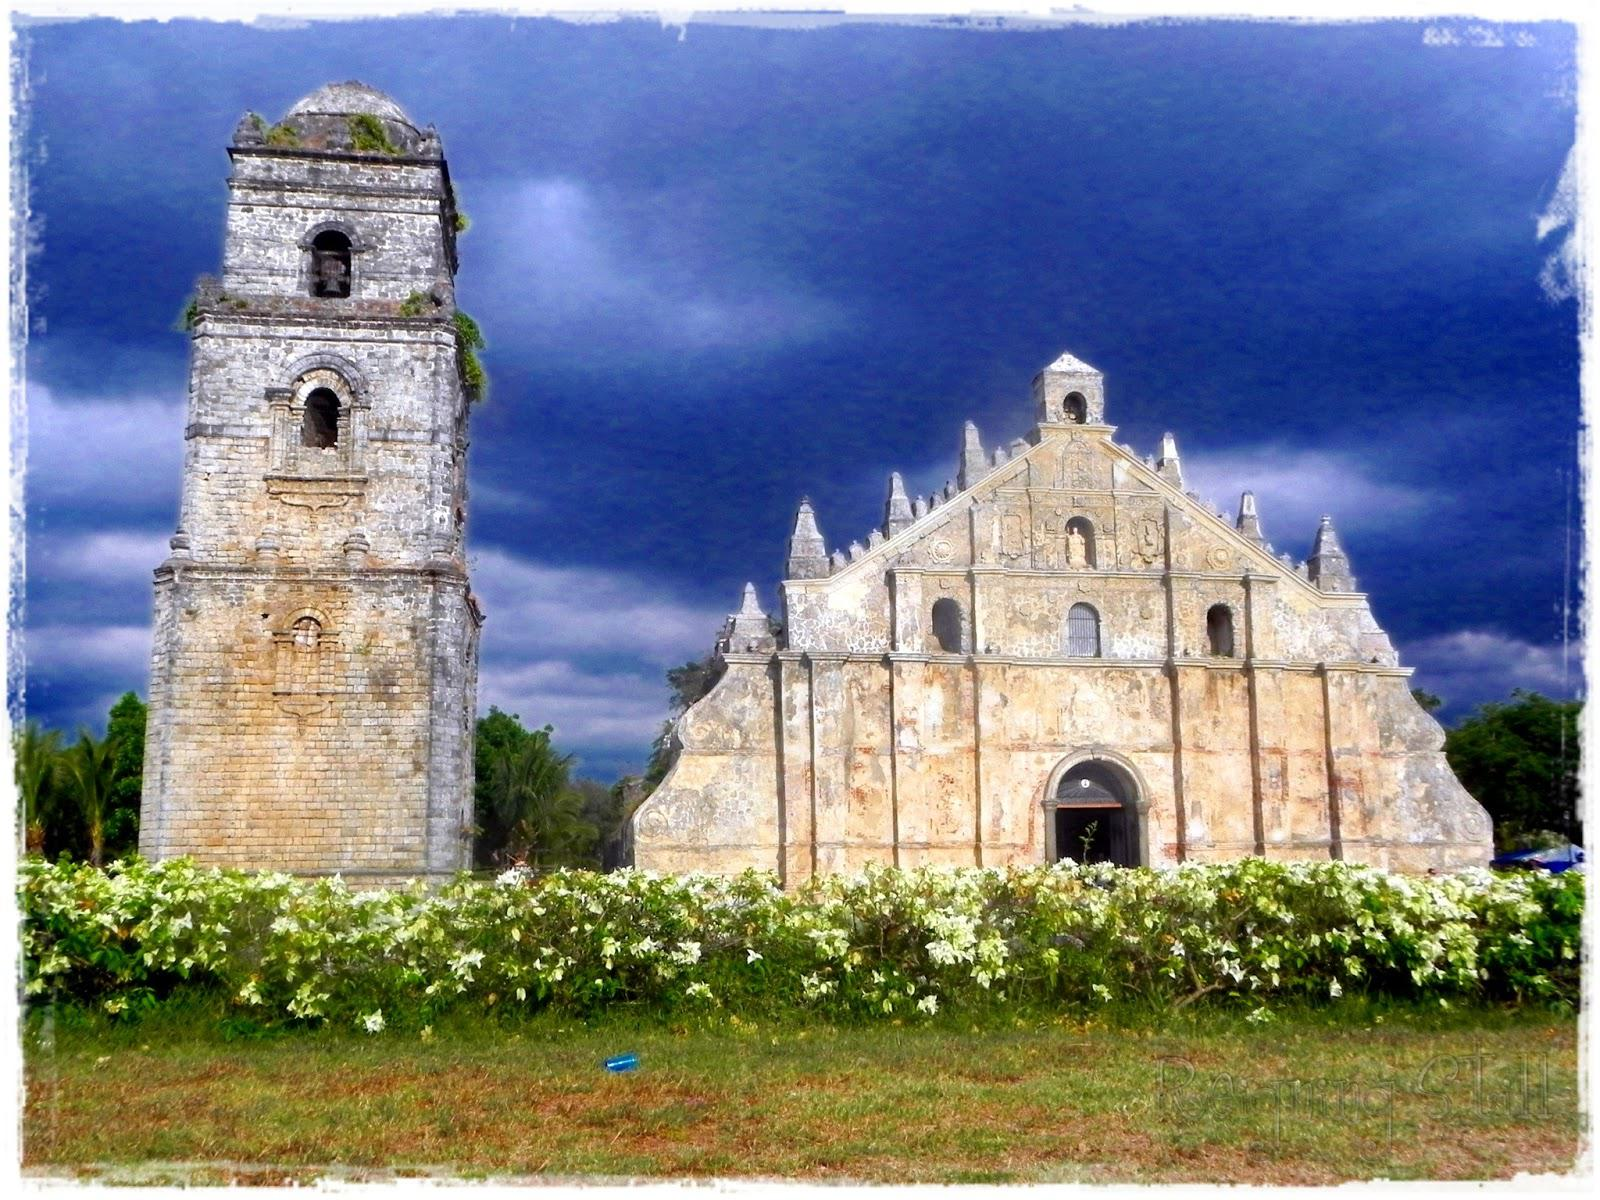Environmental Damage: (449, 308, 490, 415), (181, 284, 244, 340), (257, 112, 317, 168), (348, 108, 392, 163)
Paoay Church: (132, 66, 1512, 918)
